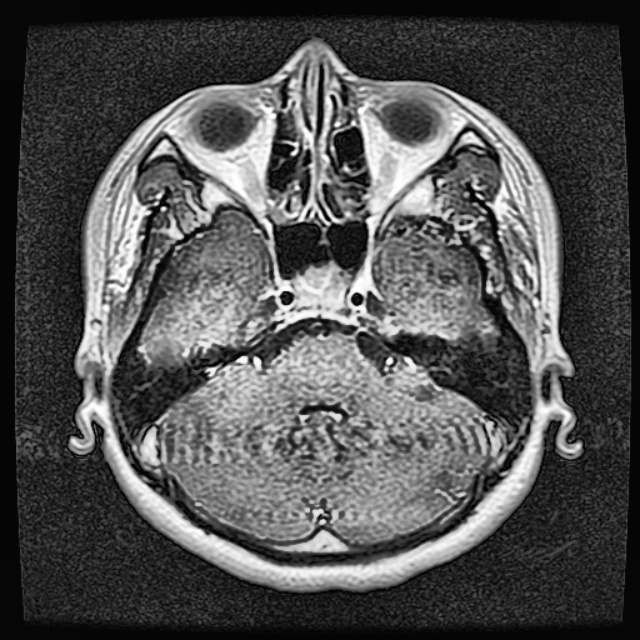Meningioma: (293, 262, 349, 310)
